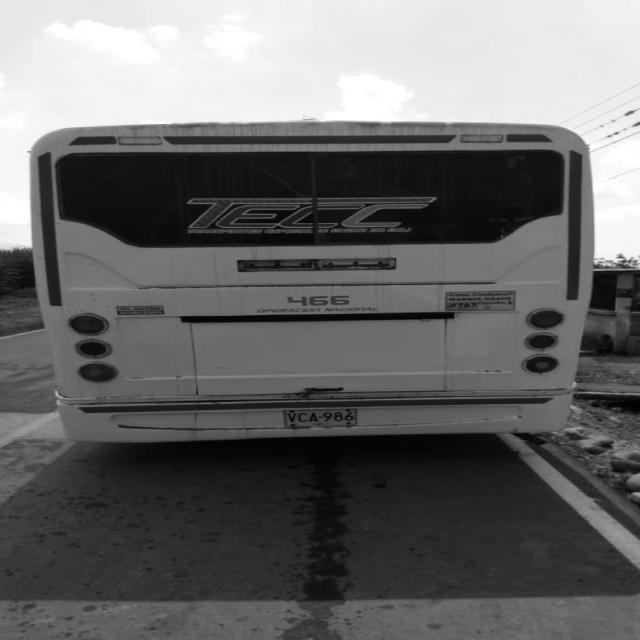plate: (283, 404, 364, 430)
